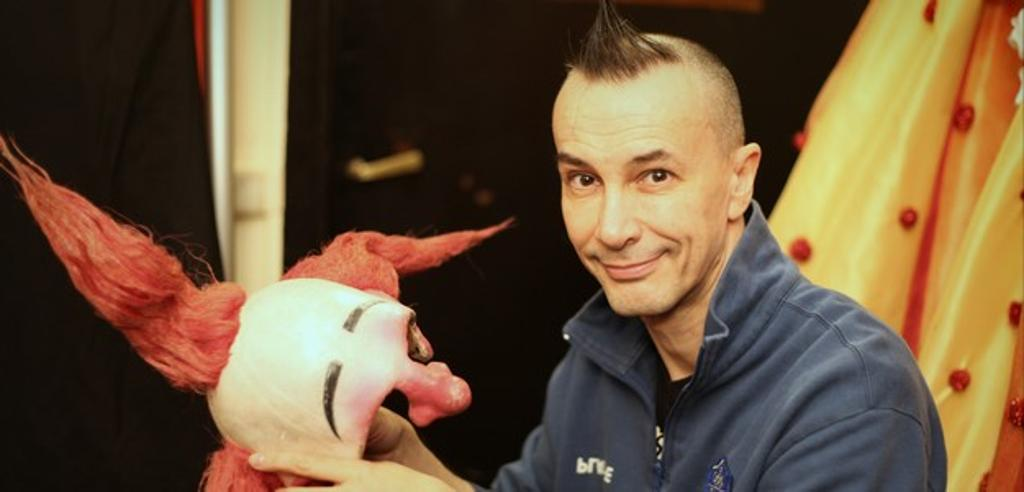face: (552, 74, 732, 314)
